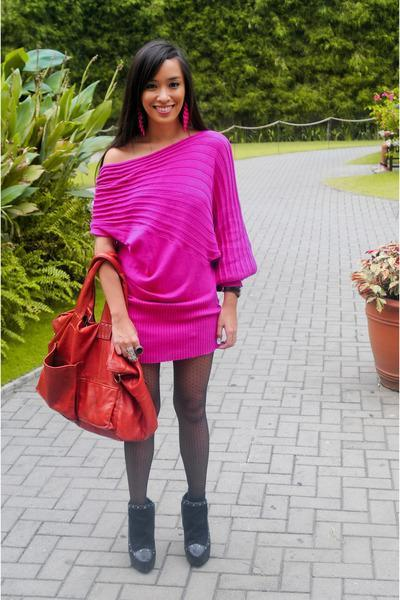bag: (36, 307, 156, 440)
dress: (90, 129, 251, 371)
pants: (124, 348, 213, 574)
shoe: (128, 490, 215, 573)
